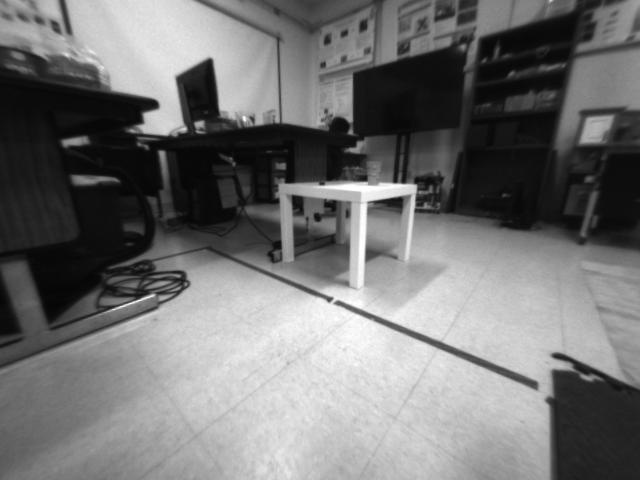coffee_cup: (364, 159, 384, 186)
